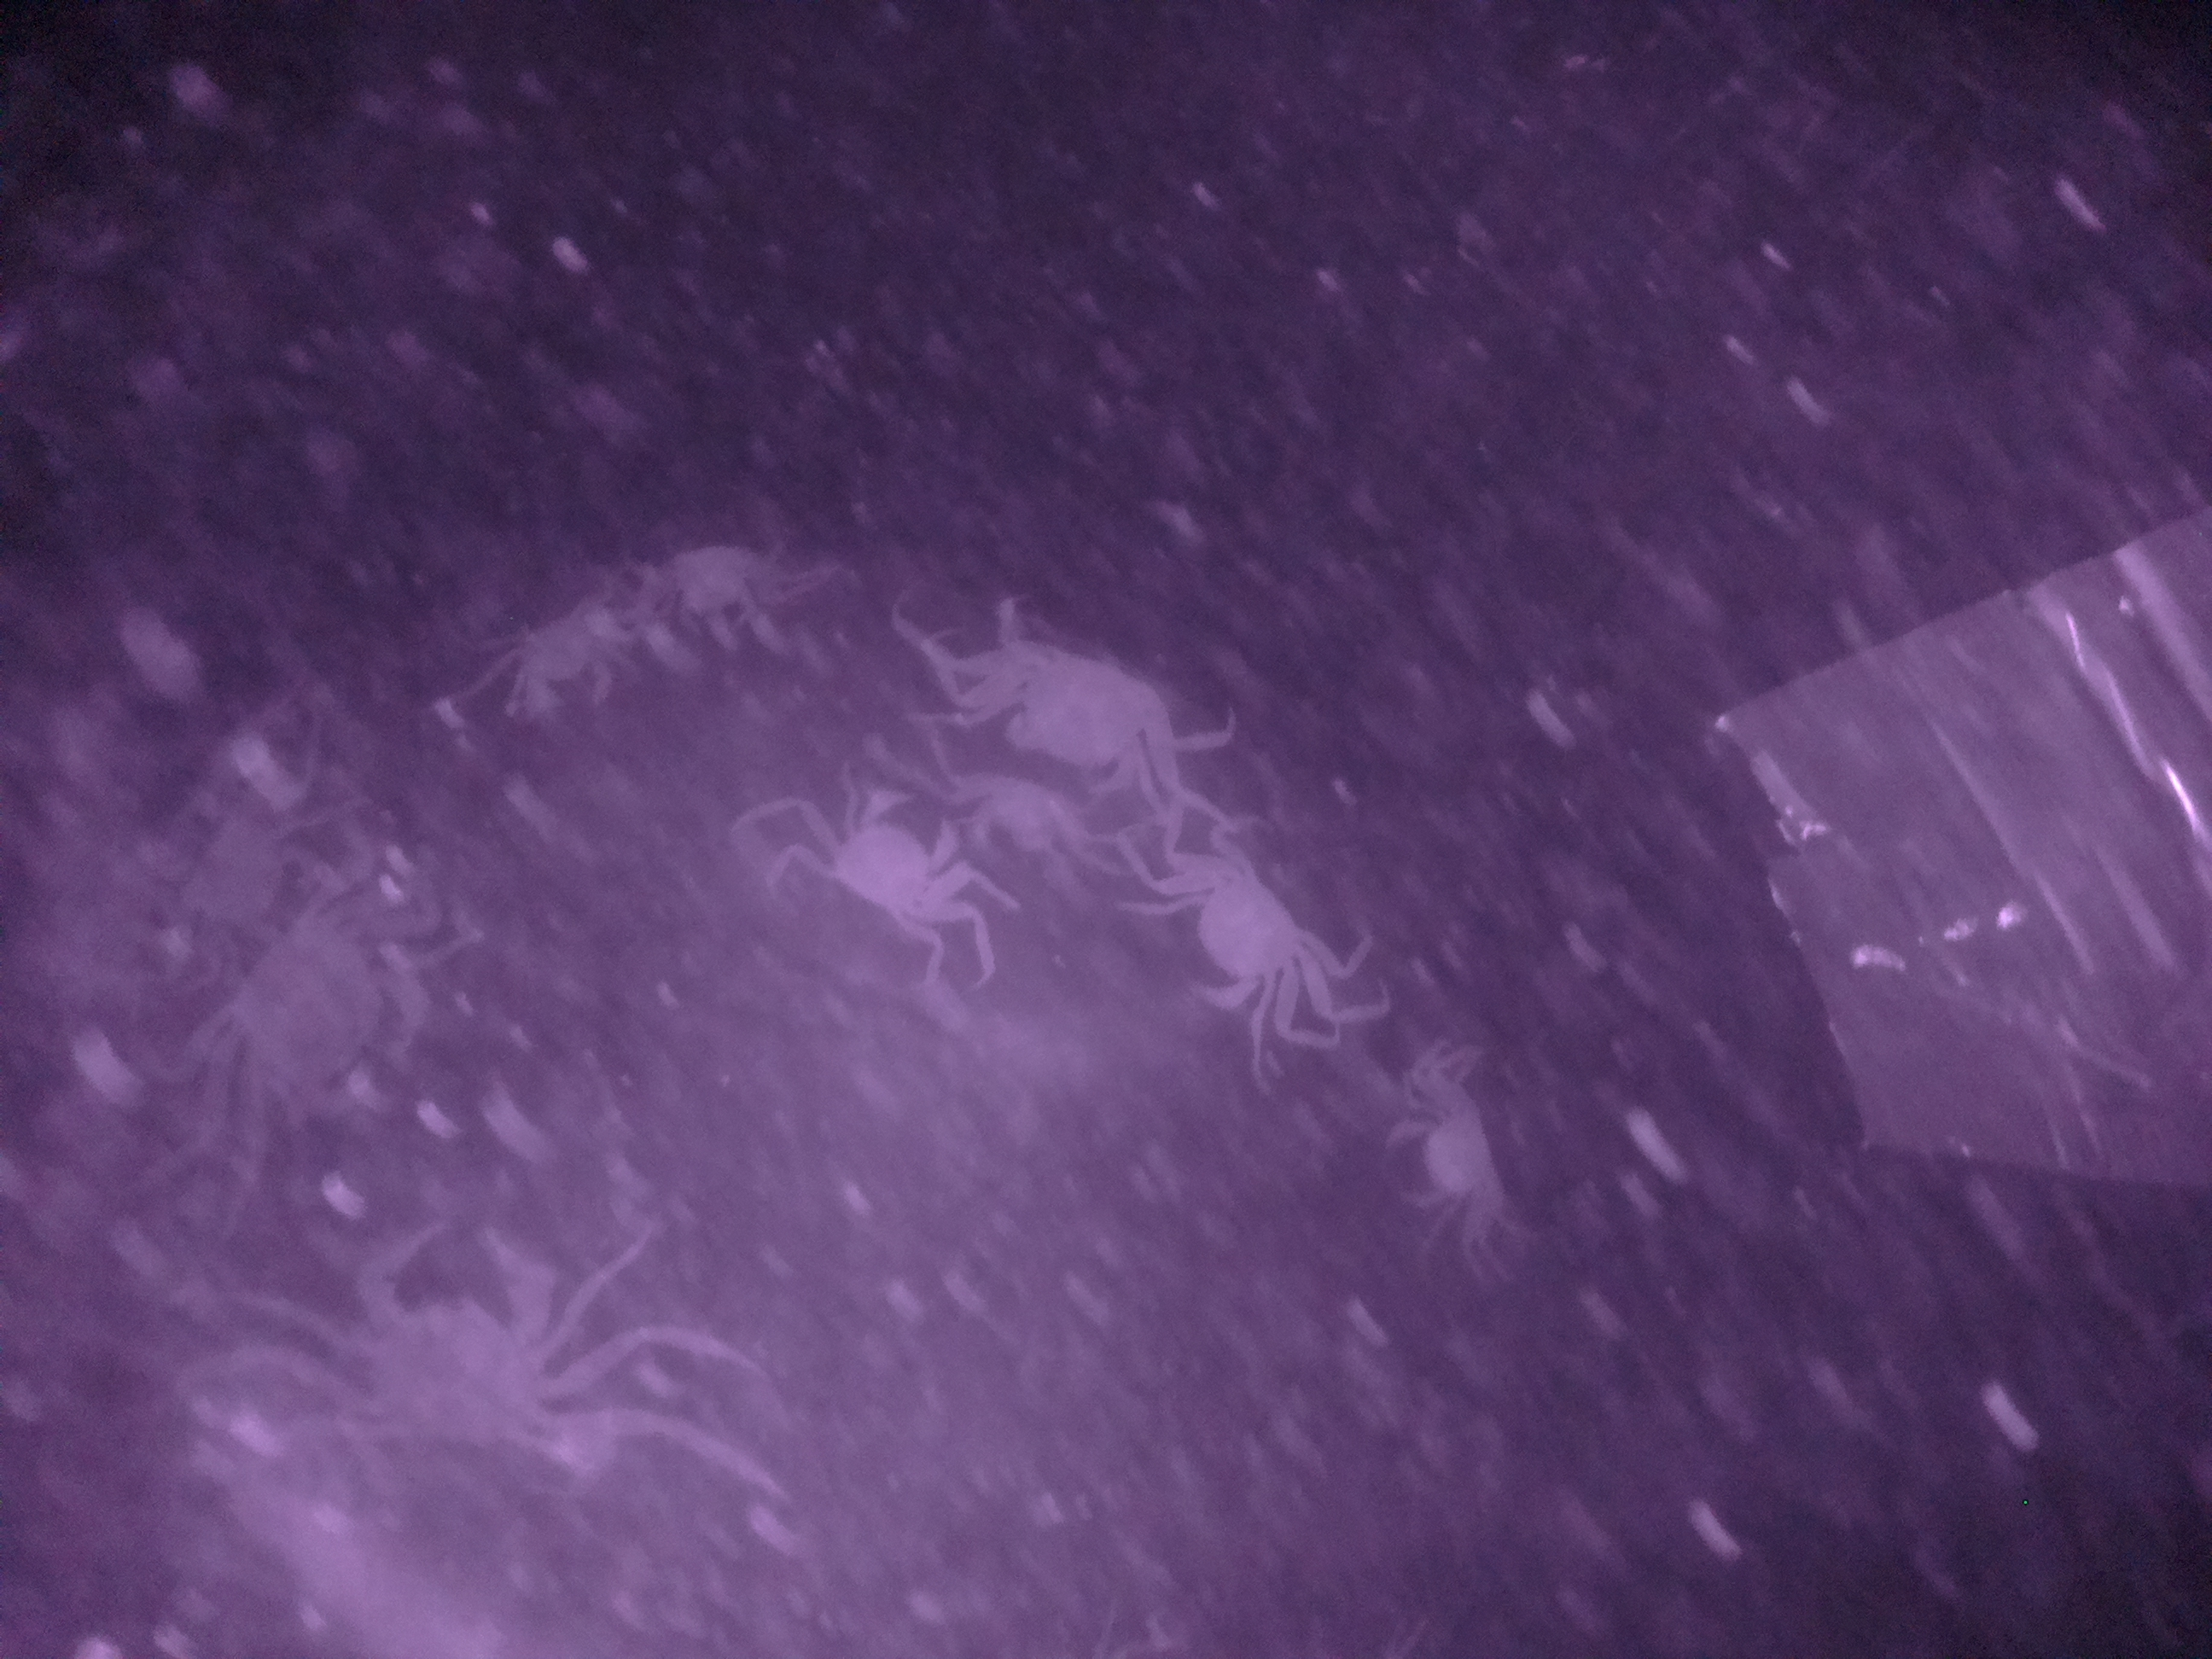Crab: (974, 613, 1188, 805), (1134, 833, 1329, 1035), (792, 765, 974, 939), (1385, 1080, 1514, 1227), (496, 596, 636, 725)
